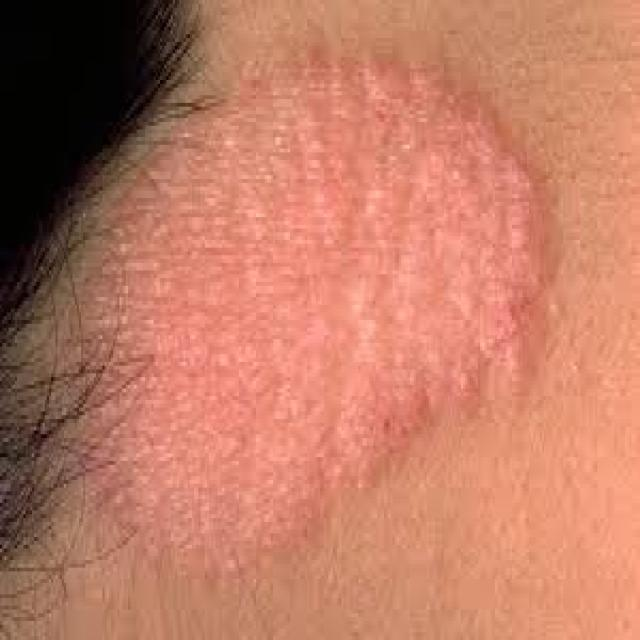Eczema: (78, 57, 549, 582)
